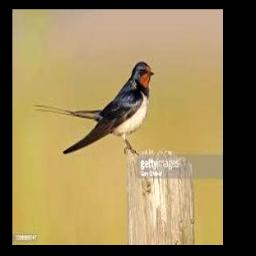Swallow: (35, 61, 154, 154)
